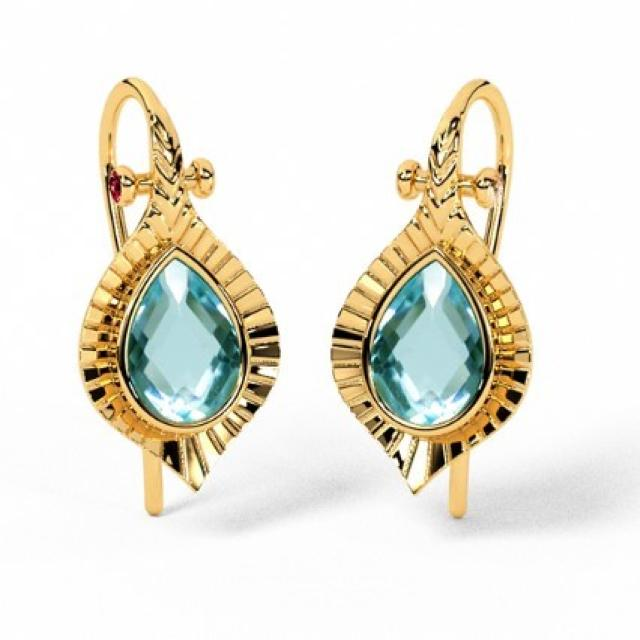missing gem: (482, 176, 499, 203)
